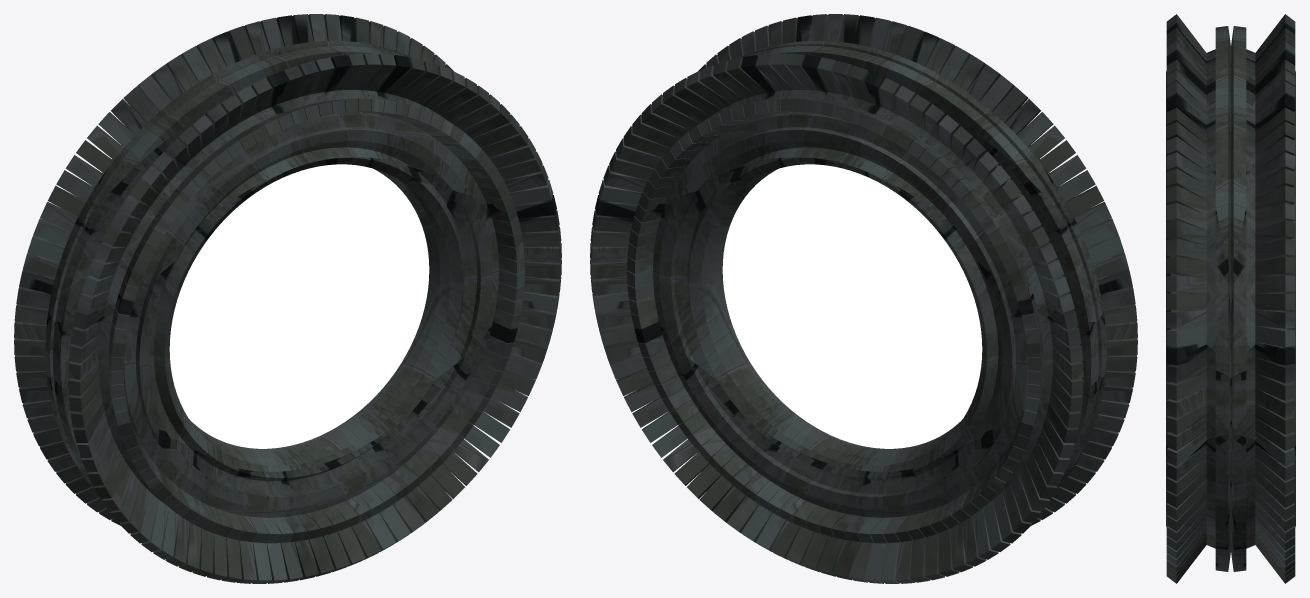
Rendered from radical_portal.glb.
3 views of the same model, side by side, from view 1: azimuth 30°, elevation 25°; view 2: azimuth 150°, elevation 25°; view 3: azimuth 270°, elevation 25° (orthographic).
Visible parts, largest first — view 1: portal, emissiveCube; view 2: portal, emissiveCube; view 3: portal.
Boxes of the visible parts, box(x1,y1,x2,y2) form: portal: box(14, 14, 561, 583); emissiveCube: box(169, 164, 429, 448); portal: box(590, 14, 1137, 583); emissiveCube: box(722, 164, 982, 448); portal: box(1166, 14, 1295, 583).
Size of the model in its own units: 15.29 by 15.29 by 3.48.
2 materials, 1 textured.
